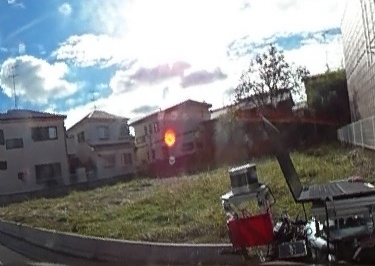person: (348, 33, 375, 266)
